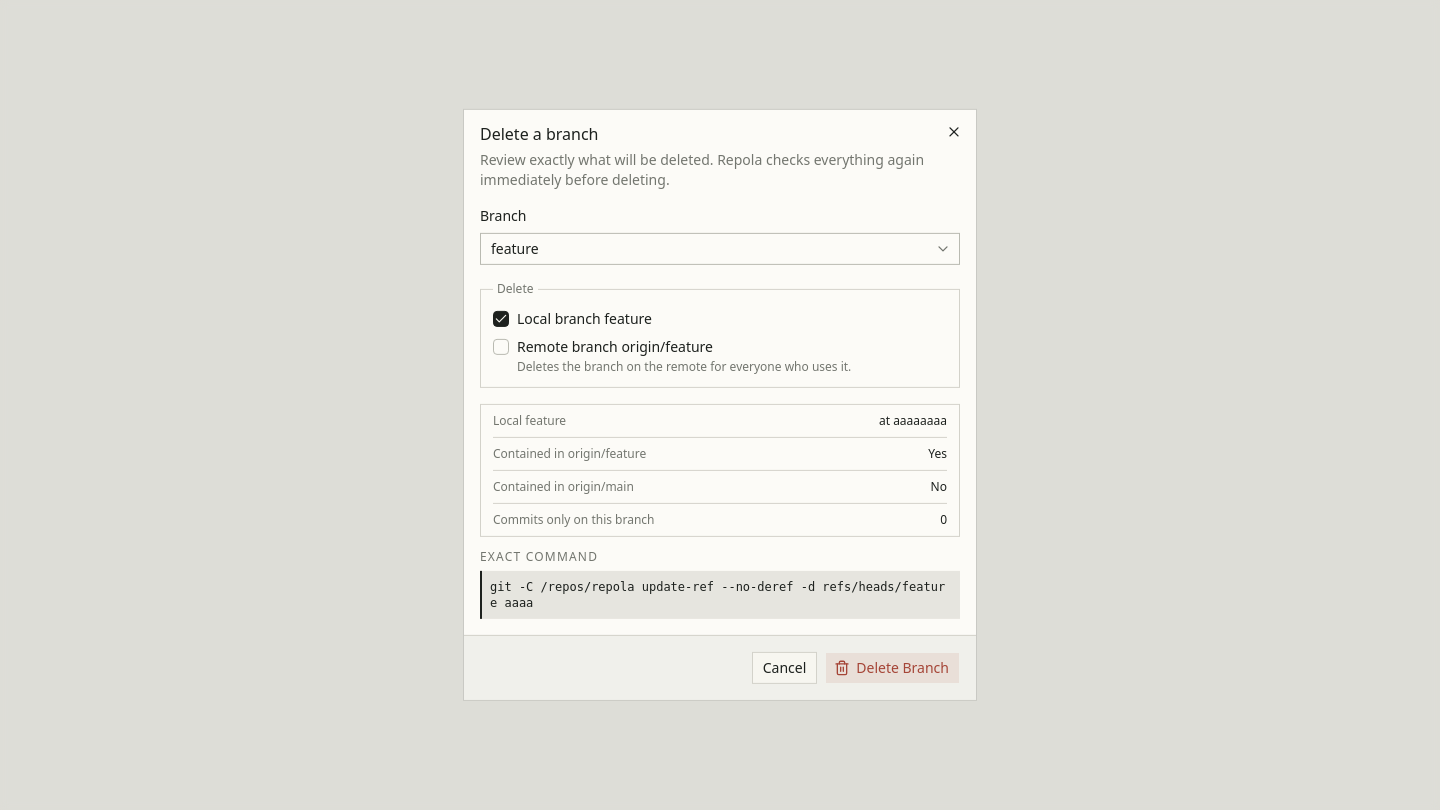
Test: DeleteBranchDialog › says when it could not check for open pull requests
This screenshot has width=1440, height=810.
Expected: the text "update-ref --no-deref -d refs/heads/feature" is shown, [490,580,945,610]
Click the checkbox named "Remote branch origin/feature" next to "Remote branch origin/feature" at (501, 347), box [493,339,509,355]
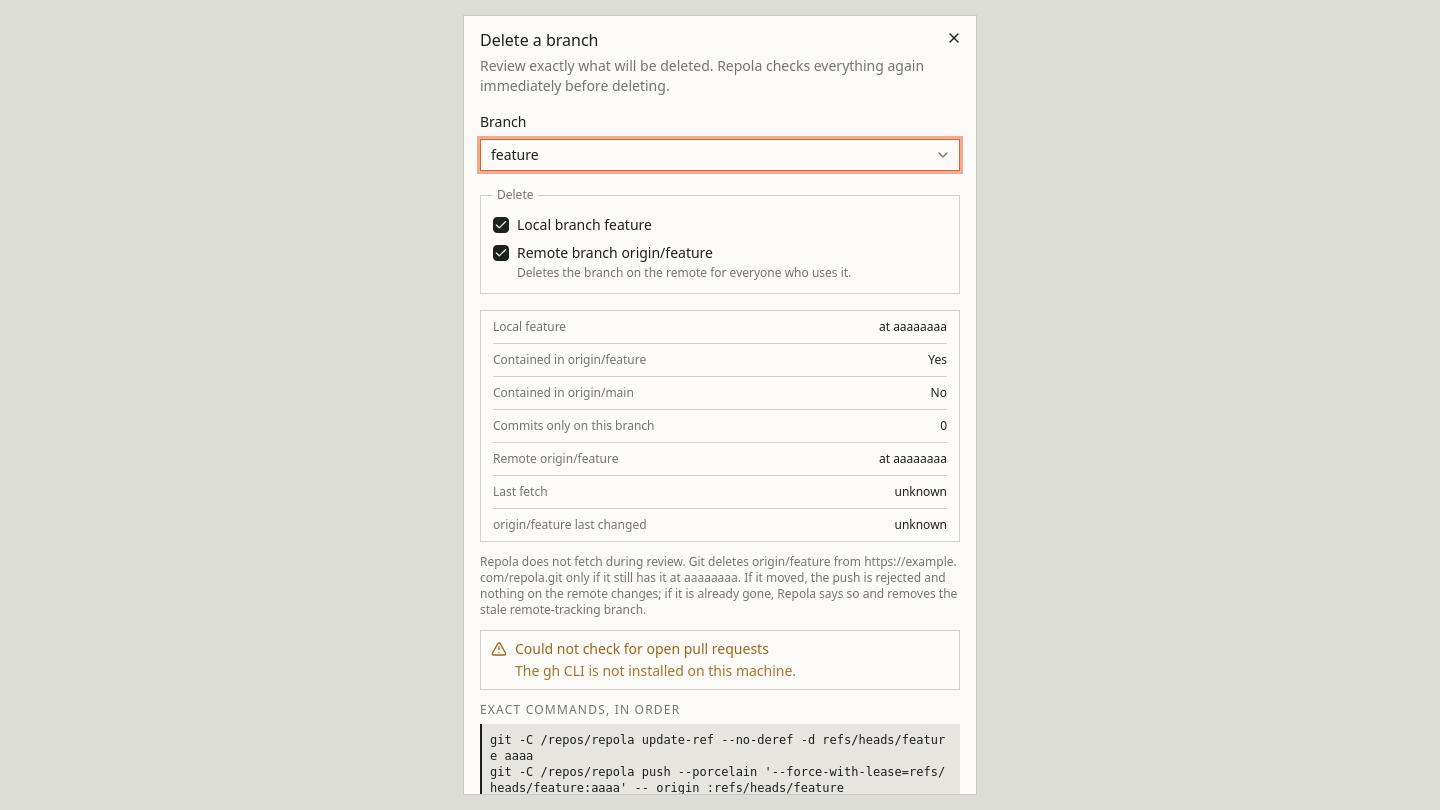
Now the text "Could not check for open pull requests" is shown, box [515,639,769,658]
Now the text "The gh CLI is not installed on this machine." is shown, box [515,661,796,680]
